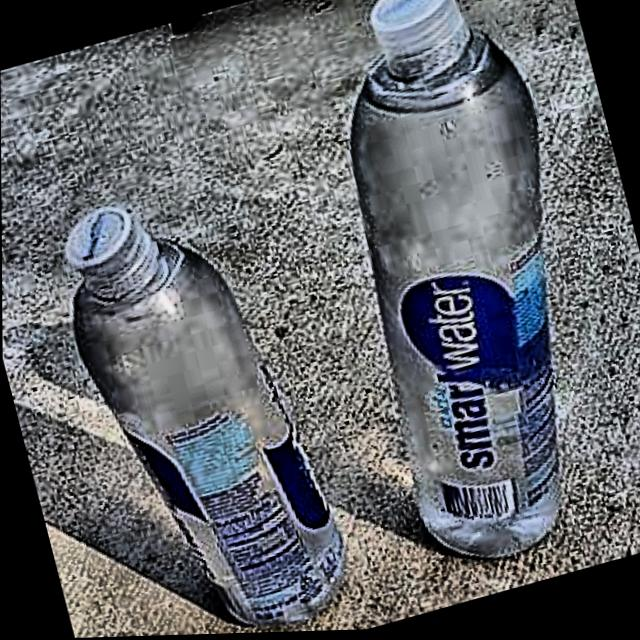Bottles: (271, 0, 640, 594), (10, 141, 395, 640)
